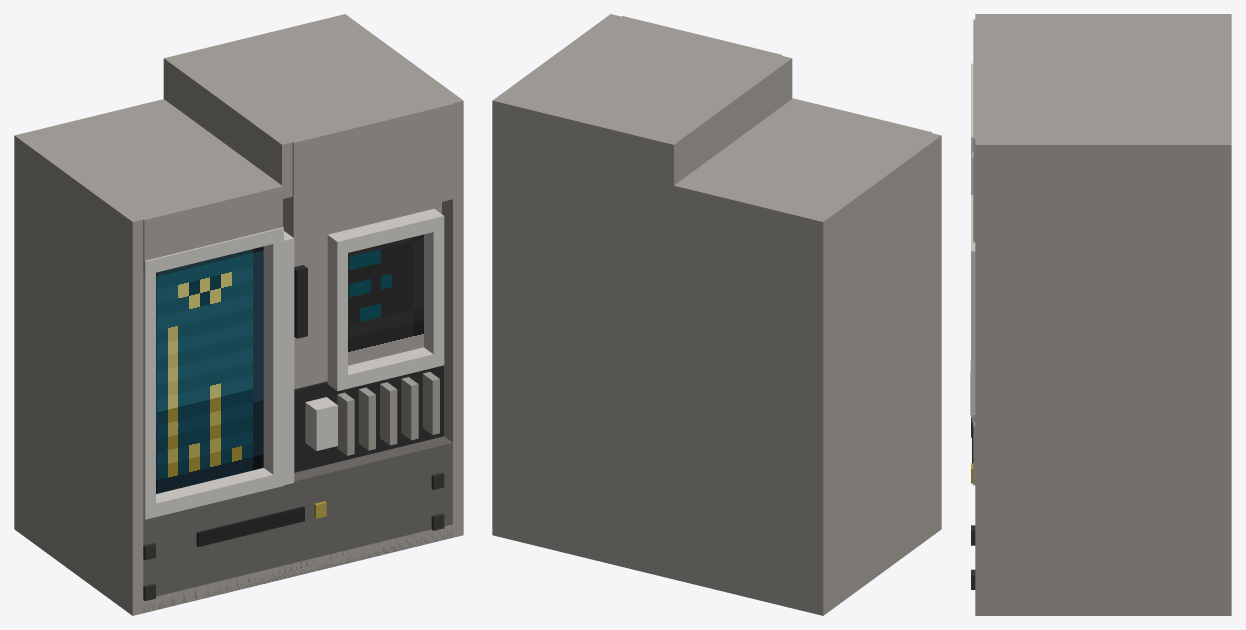
File: CMU3DRMCWhiteMappingComputerInheritedMiscCloud.glb
The picture shows the model from 3 angles, left to right: view 1: azimuth 30°, elevation 25°; view 2: azimuth 150°, elevation 25°; view 3: azimuth 270°, elevation 25°; orthographic projection. The views are drawn at different scales.
Parts seen in each view (by area): view 1: full-depth left casing, tall right hood continuation, lower service fascia, tall cyan mapping display recessed glass source detail, right upper hood, roof, right status CRT recessed glass source detail, left upper hood, full-depth right casing, lower right ventilation backing, right instrument facade, tall cyan mapping display stepped bezel right (+18 smaller); view 2: rear cabinet wall, full-depth left casing, tall right hood continuation, roof, full-depth right casing, right upper hood, left upper hood; view 3: full-depth right casing, tall right hood continuation, roof, right upper hood, full-depth left casing, left upper hood, right status CRT stepped bezel right, rear cabinet wall.
Boxes of the visible parts, x1,y1,x2,y2 form: full-depth left casing: [14, 133, 143, 615]; tall right hood continuation: [163, 14, 463, 198]; lower service fascia: [143, 436, 452, 612]; tall cyan mapping display recessed glass source detail: [156, 246, 263, 493]; right upper hood: [274, 89, 453, 237]; roof: [30, 102, 292, 218]; right status CRT recessed glass source detail: [348, 234, 423, 365]; left upper hood: [125, 172, 282, 273]; full-depth right casing: [442, 141, 463, 537]; lower right ventilation backing: [294, 365, 443, 472]; right instrument facade: [294, 202, 441, 389]; tall cyan mapping display stepped bezel right: [263, 241, 283, 474]; rear cabinet wall: [503, 144, 818, 613]; full-depth left casing: [812, 133, 941, 615]; tall right hood continuation: [492, 14, 792, 198]; roof: [681, 100, 920, 214]; full-depth right casing: [492, 141, 502, 537]; right upper hood: [603, 16, 782, 69]; left upper hood: [774, 98, 931, 146]; full-depth right casing: [975, 189, 1231, 615]; tall right hood continuation: [975, 49, 1231, 203]; roof: [975, 19, 1220, 48]; right upper hood: [973, 54, 1015, 242]; full-depth left casing: [975, 14, 1231, 19]; left upper hood: [973, 19, 1015, 54]; right status CRT stepped bezel right: [971, 266, 975, 398]; rear cabinet wall: [1217, 19, 1231, 48].
Size of the model in its own units: 0.9688 by 1.22 by 0.612.
Materials: 10 (2 with a texture image).
